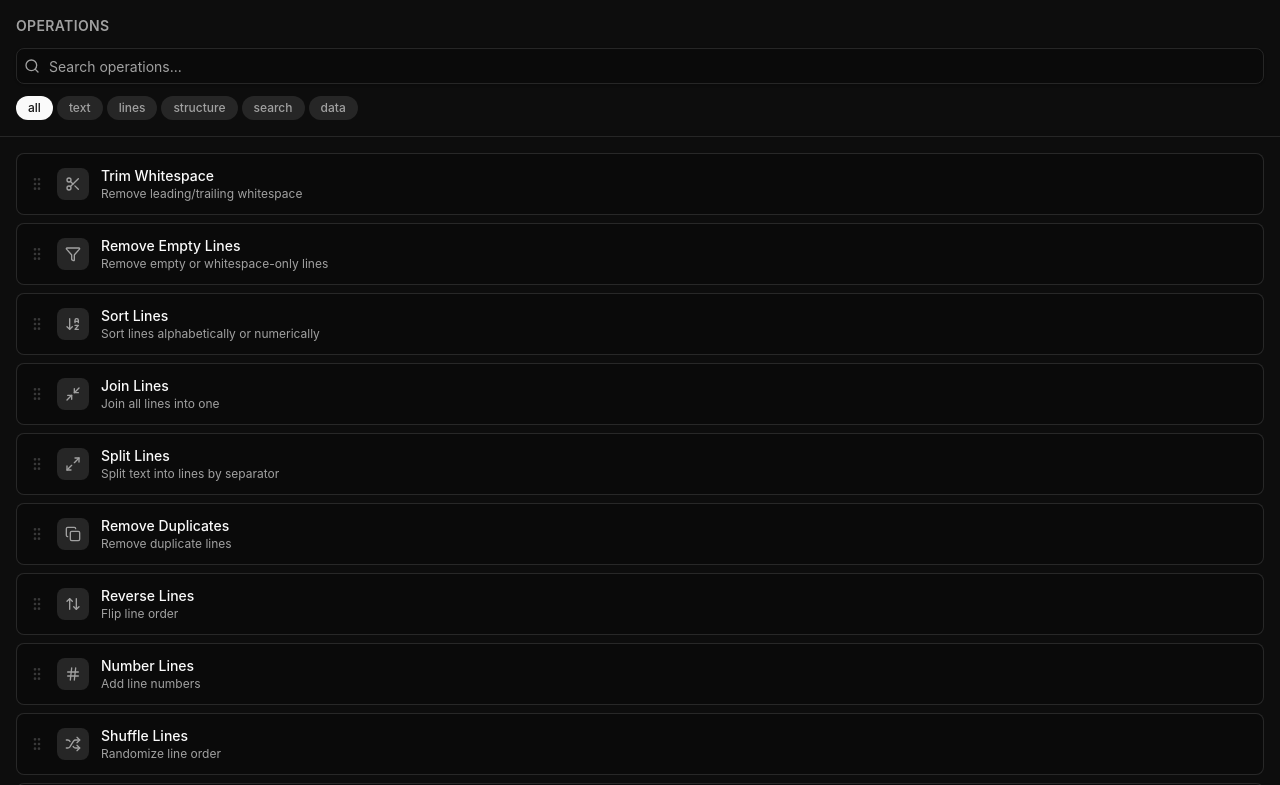
Test: TransformerToolbox › should filter operations by search query
Type "trim" into the field with placeholder "Search operations..." at (640, 66), box [16,48,1264,84]
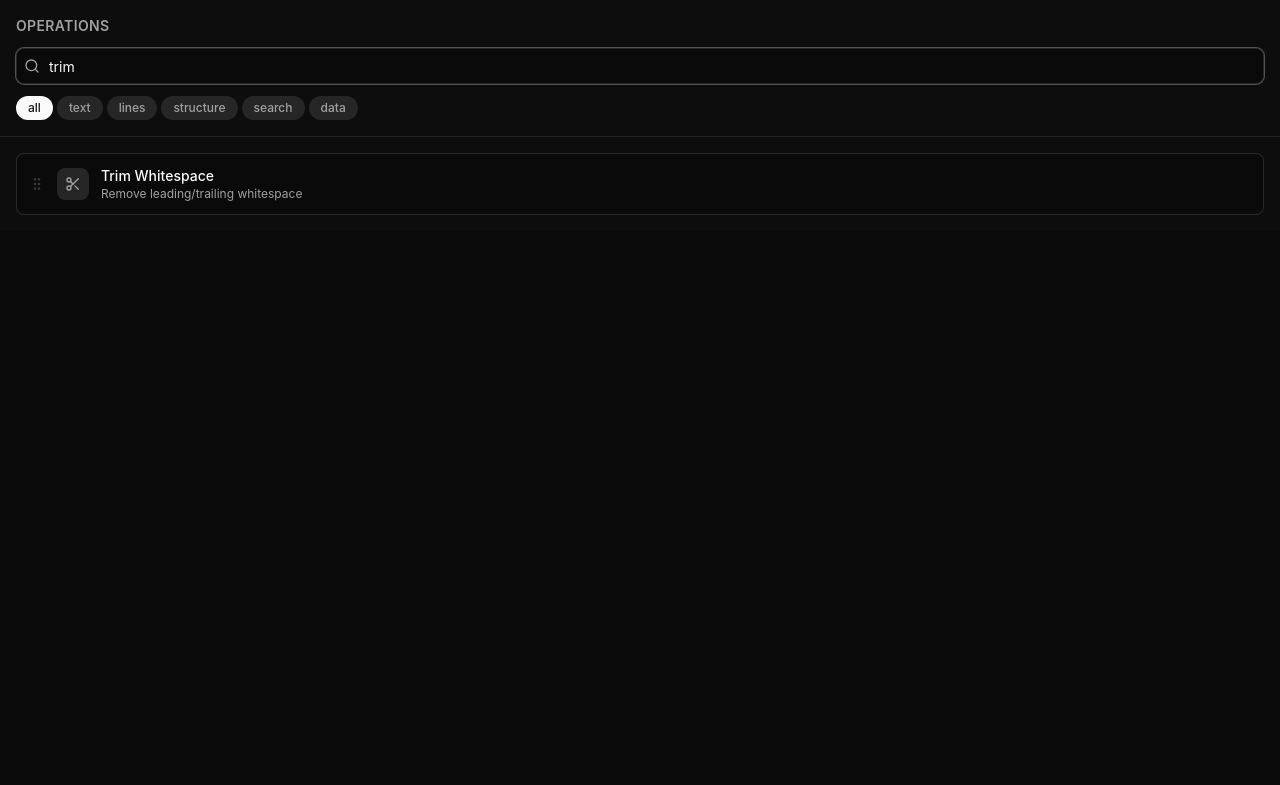
Check: the text "Trim Whitespace" is shown, box [101,167,214,184]
Check: the button "Sort Lines" is gone
